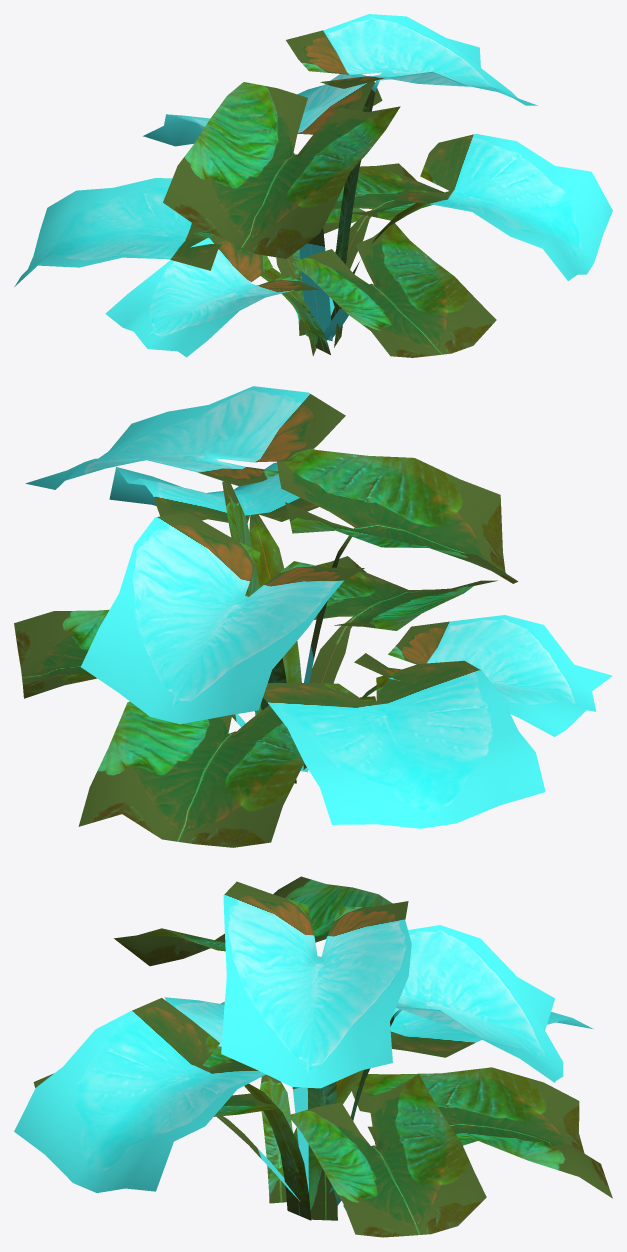
Rendered from plant_011.FBX.
3 views of the same model, one above another, from view 1: azimuth 30°, elevation 25°; view 2: azimuth 150°, elevation 25°; view 3: azimuth 270°, elevation 25° (orthographic). The views are drawn at different scales.
Parts seen in each view (by area): view 1: plant_011; view 2: plant_011; view 3: plant_011.
Boxes of the visible parts, x1=… form: plant_011: x1=14, y1=14, x2=612, y2=357; plant_011: x1=14, y1=386, x2=612, y2=847; plant_011: x1=14, y1=876, x2=612, y2=1237.
Size of the model in its own units: 16785 by 9444 by 15546.
